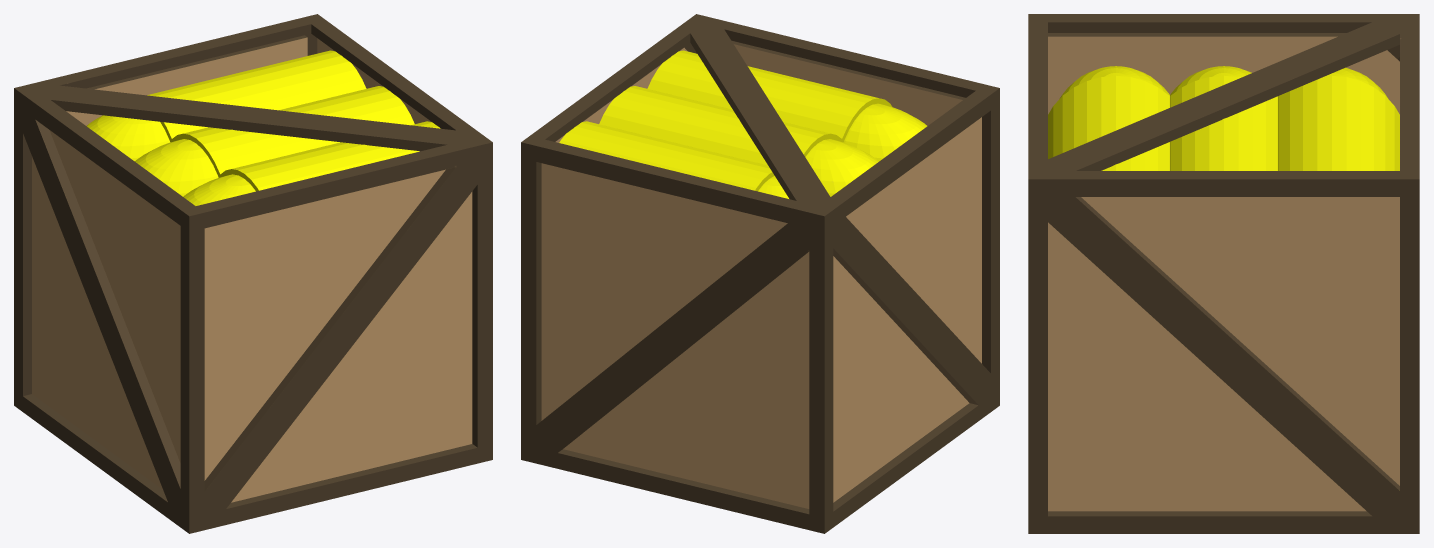
The model's file is AmmoCrateItem.fbx.
3 renders of one model, left to right at view 1: azimuth 30°, elevation 25°; view 2: azimuth 150°, elevation 25°; view 3: azimuth 270°, elevation 25°, orthographic. The views are drawn at different scales.
Visible parts, largest first — view 1: Cylinder.001; view 2: Cylinder.001; view 3: Cylinder.001.
Boxes of the visible parts, x1,y1,x2,y2 form: Cylinder.001: [14, 14, 492, 533]; Cylinder.001: [521, 14, 999, 533]; Cylinder.001: [1028, 14, 1419, 533].
Size of the model in its own units: 1000 by 1000 by 1000.
